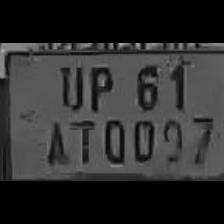0: (100, 114, 128, 162), (128, 114, 156, 162)
1: (163, 56, 191, 110)
6: (129, 61, 161, 112)
7: (186, 111, 215, 167)
9: (157, 114, 183, 164)
A: (40, 116, 70, 168)
P: (85, 61, 116, 112)
T: (68, 114, 96, 164)
U: (54, 60, 86, 110)
